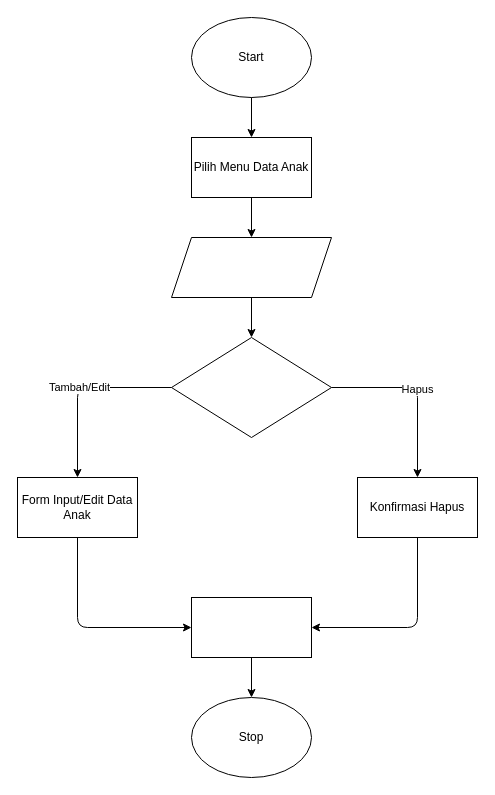
The diagram is 495 pixels wide and 795 high, and some of its shapes have lost their labels. Each missing label, with the box of its shape:
Pilih Aksi (Tambah/Edit/Hapus): (170, 336, 332, 438)
Proses Database: (190, 596, 312, 658)
Tampilkan List Data Anak: (170, 236, 332, 298)
